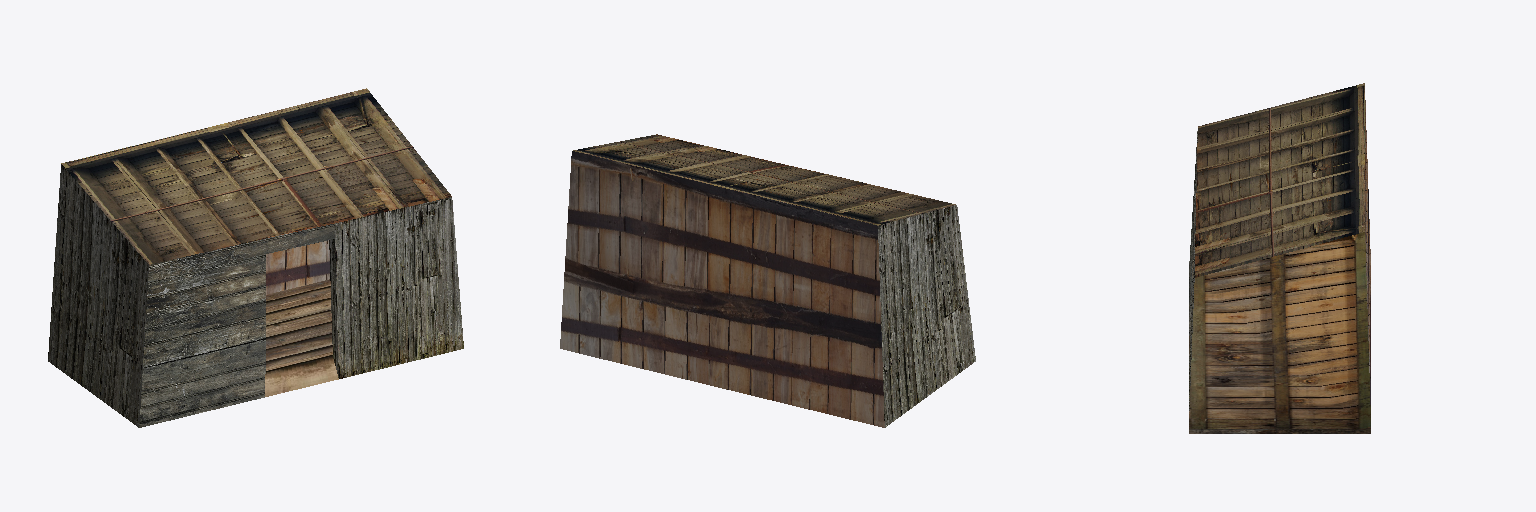
3 views of the same model, side by side, from view 1: azimuth 30°, elevation 25°; view 2: azimuth 150°, elevation 25°; view 3: azimuth 270°, elevation 25° (orthographic).
Parts seen in each view (by area): view 1: Skeleton; view 2: Skeleton; view 3: Skeleton.
Part boxes in pixels (left/top/right/bottom): Skeleton: left=48, top=88, right=463, bottom=427; Skeleton: left=560, top=134, right=975, bottom=427; Skeleton: left=1189, top=83, right=1370, bottom=433.
Size of the model in its own units: 35.26 by 20.54 by 17.18.
12 materials, 6 textured.